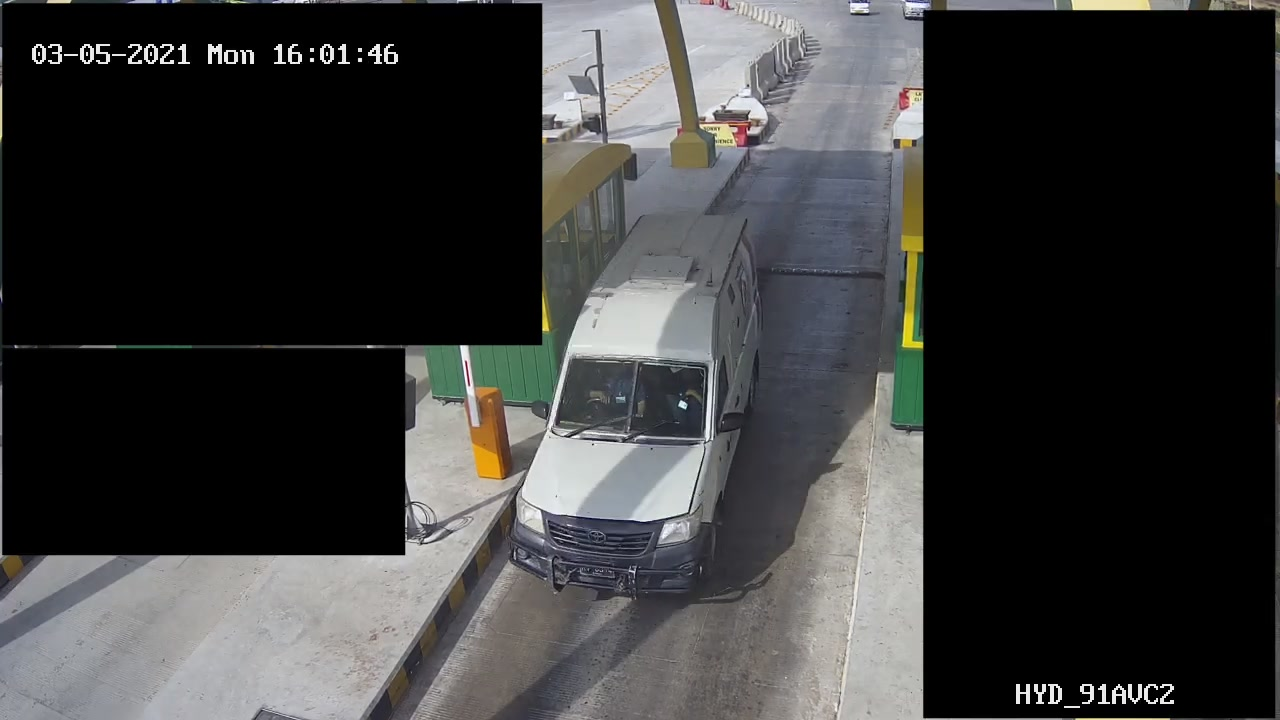F1: (497, 205, 768, 601)
